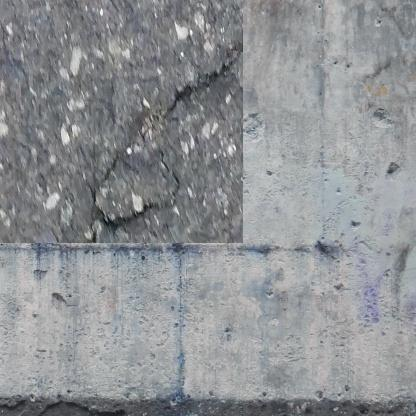Cracks: (79, 38, 225, 225)
